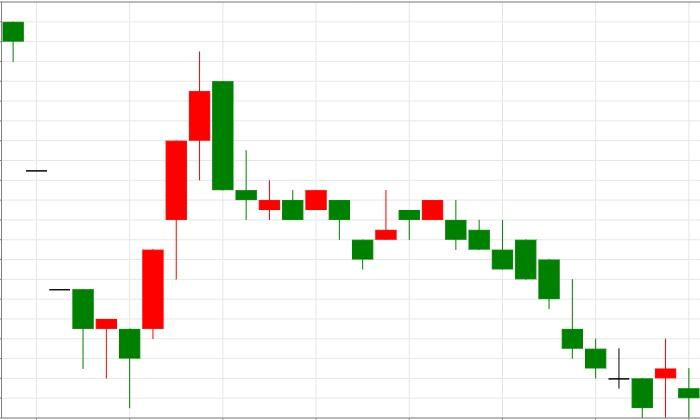three_white_soldiers_rise: (2, 21, 211, 407)
